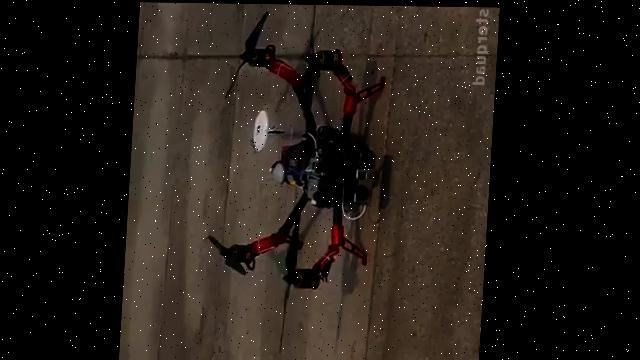drone: (199, 3, 392, 356)
